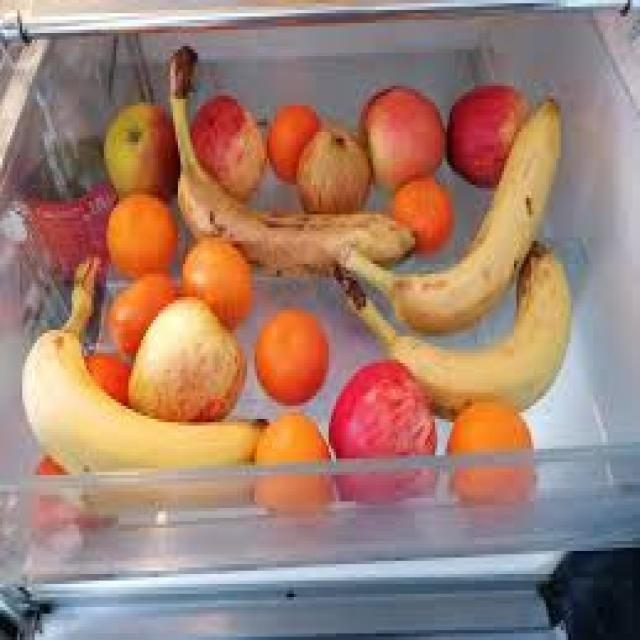apple: (329, 360, 438, 502), (128, 297, 253, 419), (446, 80, 530, 192), (357, 86, 448, 185), (190, 94, 267, 209), (299, 122, 371, 219), (104, 106, 175, 191)
banana: (171, 59, 418, 281), (338, 99, 558, 330), (20, 261, 257, 468), (351, 241, 571, 409)
orange: (445, 402, 539, 518), (255, 409, 336, 518), (253, 304, 331, 407), (180, 238, 250, 327), (106, 191, 175, 274), (109, 274, 175, 353), (392, 175, 453, 254), (267, 106, 319, 178)
